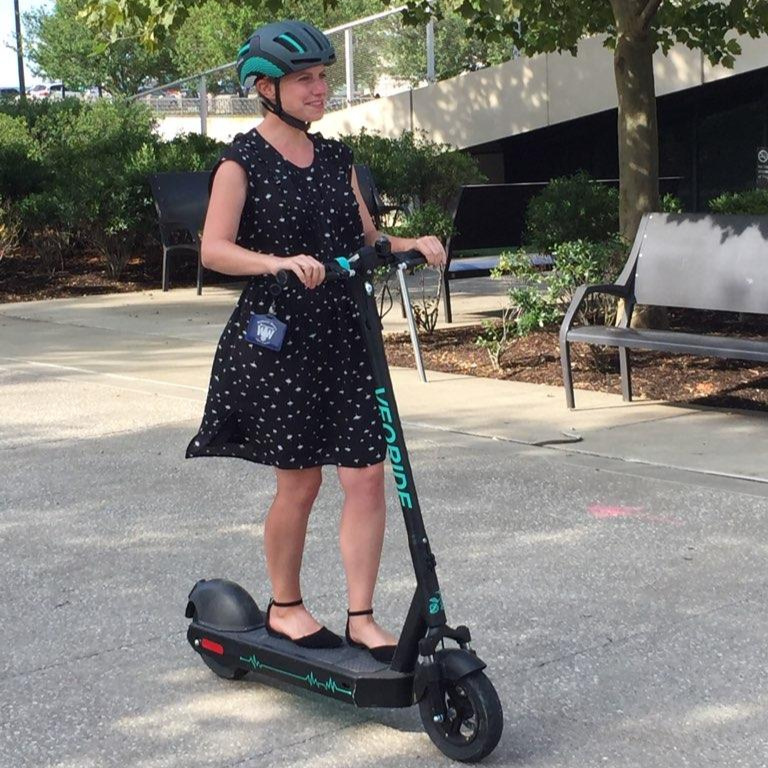scooter: (182, 244, 505, 768)
with helmet: (237, 15, 341, 137)
